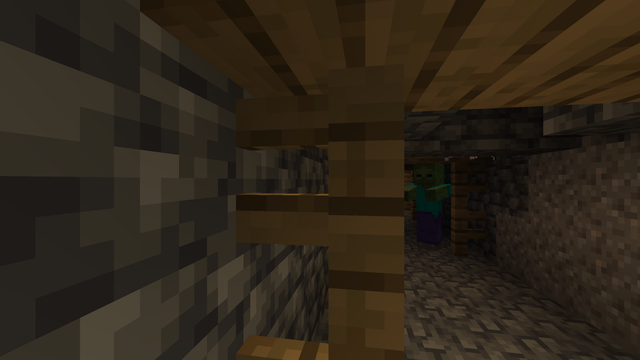zombies: (413, 165, 445, 251)
